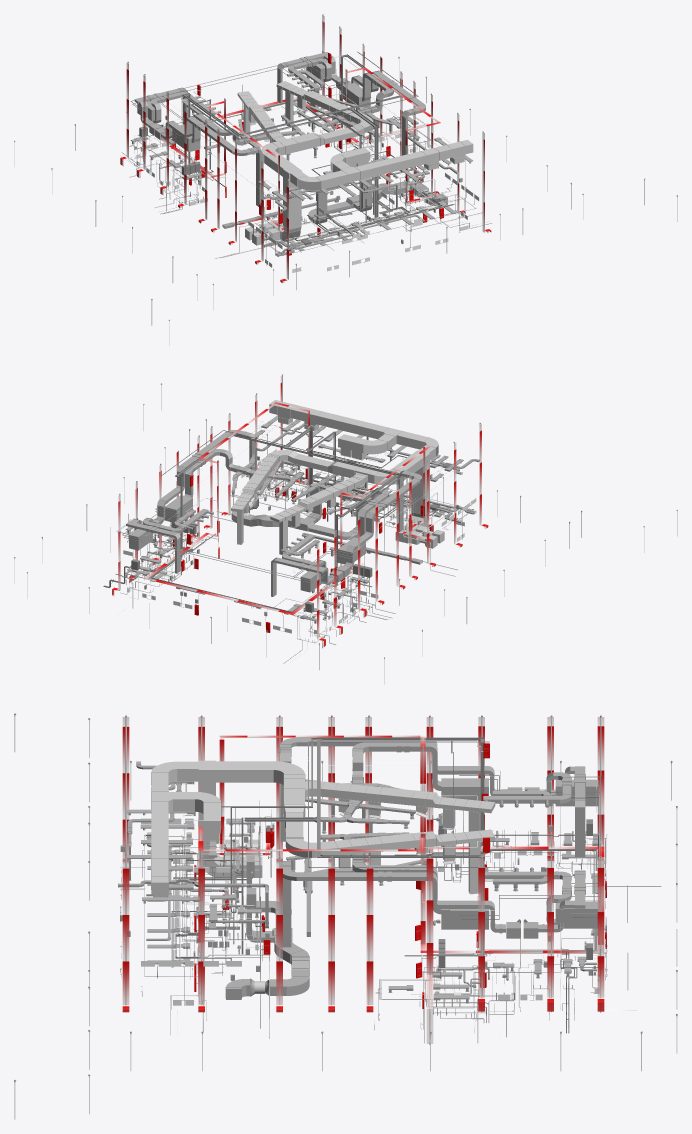
The model's file is jddlt.gltf.
3 views of the same model, one above another, from view 1: azimuth 30°, elevation 25°; view 2: azimuth 150°, elevation 25°; view 3: azimuth 270°, elevation 25° (orthographic). The views are drawn at different scales.
Parts seen in each view (by area): view 1: dalitang1cjdfg, dalitang1cjdsg, dalitang1cjdsglx, dalitang1cjdxhs, dalitang1cjddw; view 2: dalitang1cjdfg, dalitang1cjdsg, dalitang1cjdsglx, dalitang1cjdxhs, dalitang1cjddw; view 3: dalitang1cjdfg, dalitang1cjdsglx, dalitang1cjdsg, dalitang1cjdxhs, dalitang1cjddw.
Boxes of the visible parts, x1,y1,x2,y2 form: dalitang1cjdfg: [129, 52, 473, 256]; dalitang1cjdsg: [14, 14, 677, 345]; dalitang1cjdsglx: [120, 16, 491, 282]; dalitang1cjdxhs: [136, 53, 479, 272]; dalitang1cjddw: [163, 51, 454, 241]; dalitang1cjdfg: [115, 400, 479, 623]; dalitang1cjdsg: [14, 374, 677, 684]; dalitang1cjdsglx: [112, 376, 488, 646]; dalitang1cjdxhs: [123, 421, 479, 633]; dalitang1cjddw: [148, 427, 440, 612]; dalitang1cjdfg: [118, 737, 600, 1003]; dalitang1cjdsglx: [122, 717, 604, 1043]; dalitang1cjdsg: [14, 713, 677, 1119]; dalitang1cjdxhs: [118, 743, 606, 1032]; dalitang1cjddw: [171, 737, 597, 967].
Bounding box in the file's own units: 100 × 20.65 × 76.5.
Materials: 27 (4 with a texture image).
